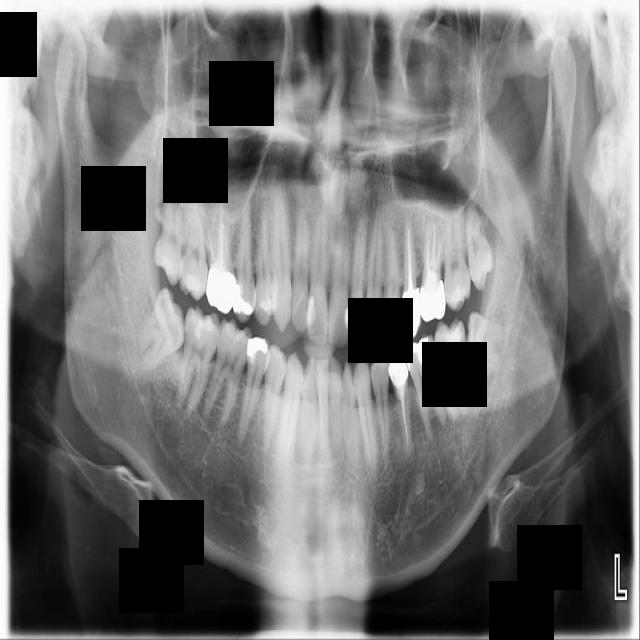3M ESPE Implant: (151, 168, 192, 287)
52: (402, 331, 439, 383), (432, 315, 469, 365), (205, 268, 238, 315), (305, 287, 332, 344), (252, 275, 279, 327), (326, 290, 350, 347), (444, 267, 472, 312), (418, 281, 447, 324), (399, 290, 423, 338), (232, 278, 257, 321), (385, 348, 410, 390), (247, 336, 269, 374)
73: (199, 189, 234, 275), (392, 383, 419, 459), (420, 216, 443, 285), (402, 216, 417, 293), (598, 548, 608, 563)
BioHorizons Implant: (444, 203, 471, 314)
BioLife Implant: (458, 188, 498, 294)
Biomet 3i Implant: (457, 309, 508, 385)
Blue Sky Bio Implant: (433, 317, 469, 419)
Caries: (178, 187, 211, 300)
Implant: (165, 302, 226, 417)
Keystone Dental Implant: (126, 285, 203, 379)
